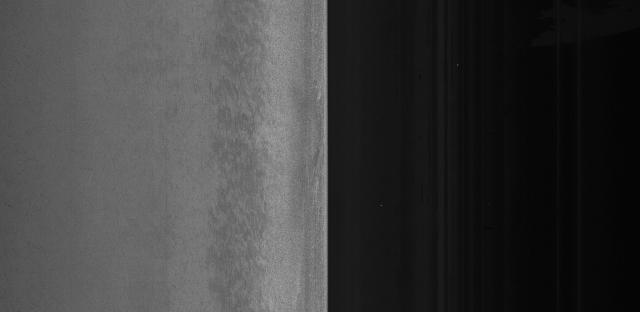silk_spot: (219, 123, 285, 220)
